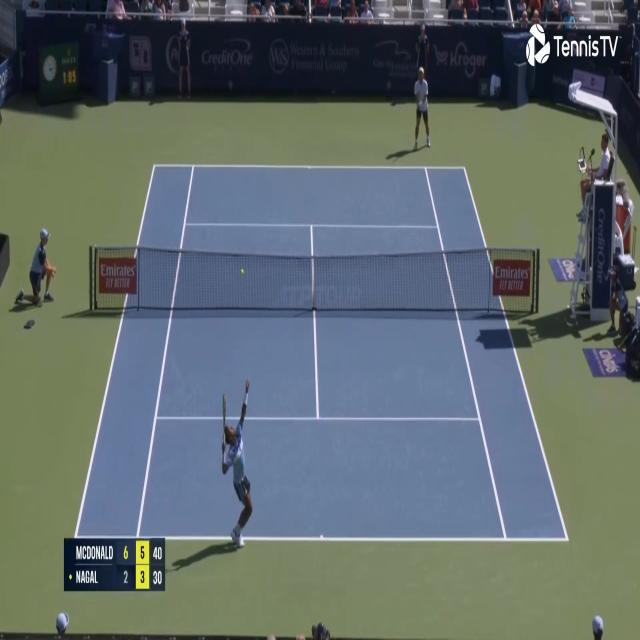tennis-player: (218, 376, 256, 554), (412, 64, 431, 151)
